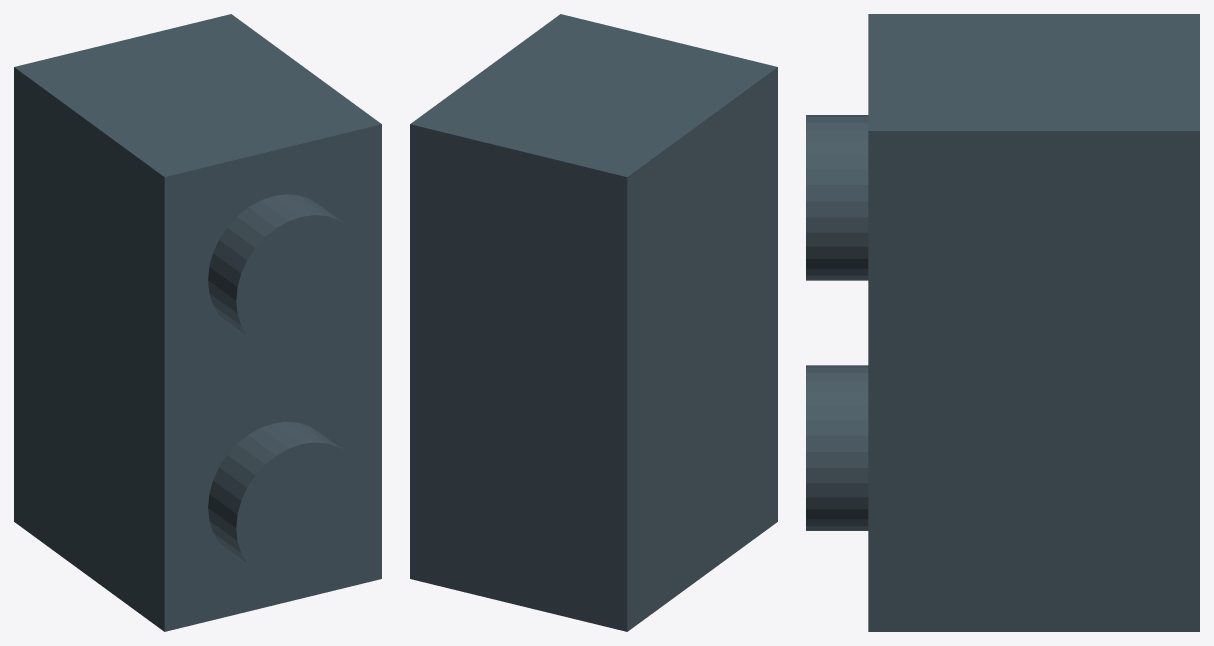
File: brick_4.glb
The picture shows the model from 3 angles, left to right: view 1: azimuth 30°, elevation 25°; view 2: azimuth 150°, elevation 25°; view 3: azimuth 270°, elevation 25°; orthographic projection. The views are drawn at different scales.
Visible parts, largest first — view 1: world; view 2: world; view 3: world.
Boxes of the visible parts, bbox=[...] form: world: bbox=[14, 14, 381, 631]; world: bbox=[410, 14, 777, 631]; world: bbox=[806, 14, 1199, 631].
Bounding box in the file's own units: 8 × 16 × 11.4.
